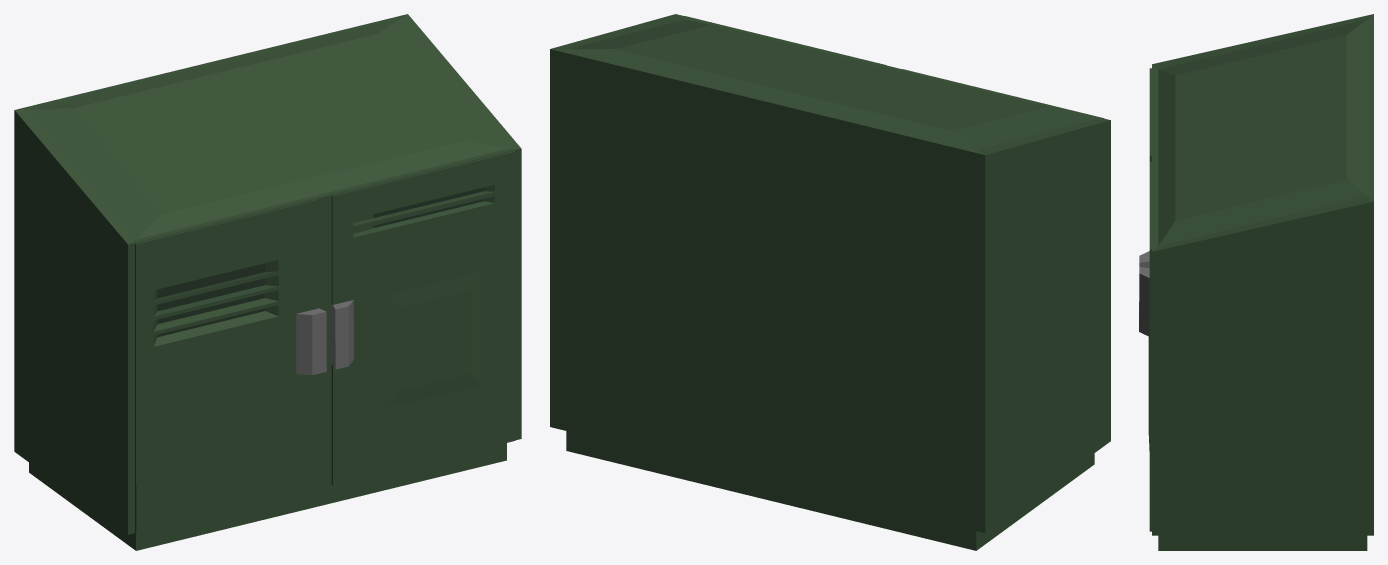
Rendered from Power box.fbx.
The picture shows the model from 3 angles, left to right: view 1: azimuth 30°, elevation 25°; view 2: azimuth 150°, elevation 25°; view 3: azimuth 270°, elevation 25°; orthographic projection. The views are drawn at different scales.
Parts seen in each view (by area): view 1: Cube; view 2: Cube; view 3: Cube.
Part boxes in pixels (box(x1,y1,x2,y2)): Cube: box(14, 14, 521, 550); Cube: box(550, 14, 1110, 550); Cube: box(1139, 14, 1373, 550).
Bounding box in the file's own units: 424 × 375 × 224.
